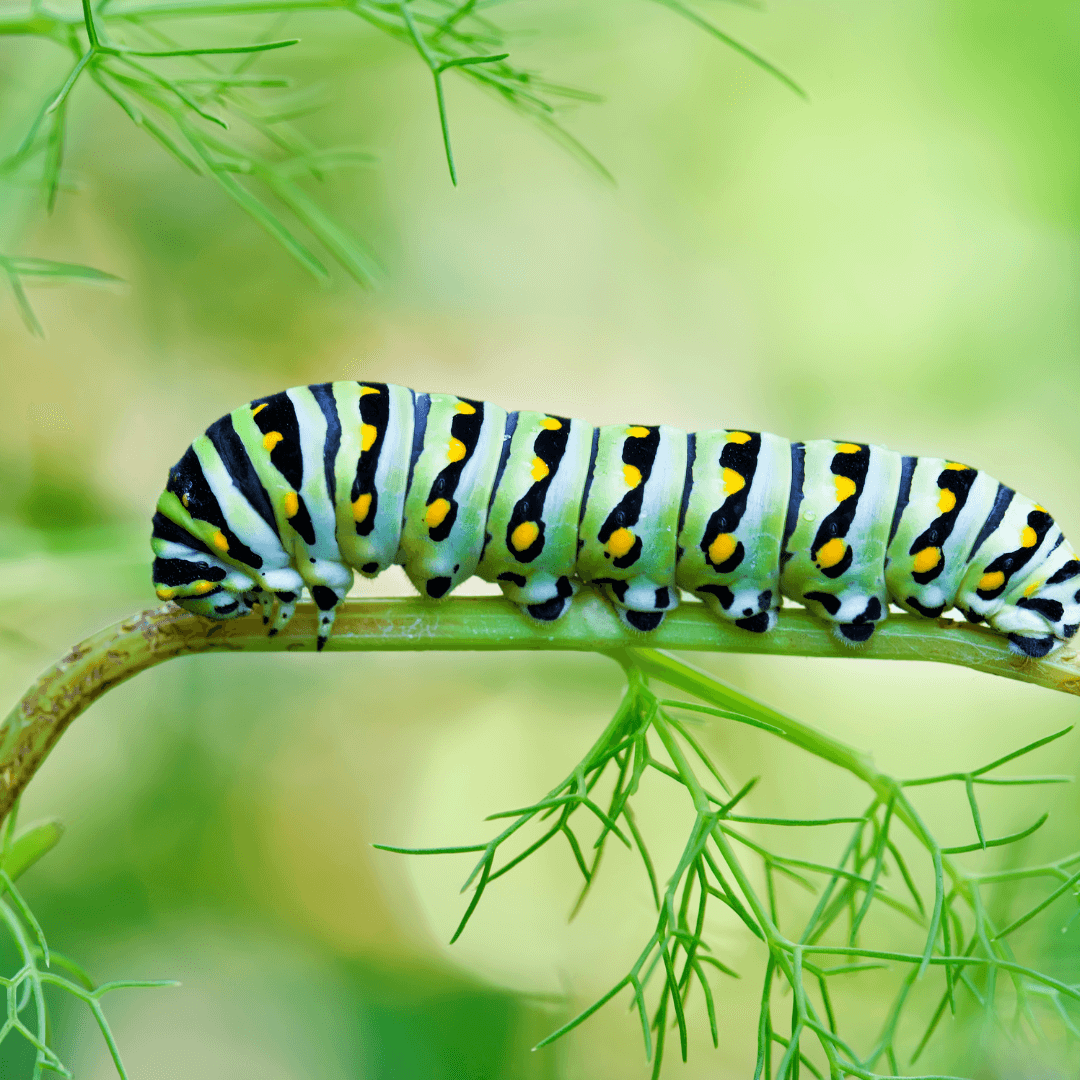Caterpillar: (144, 374, 1080, 661)
